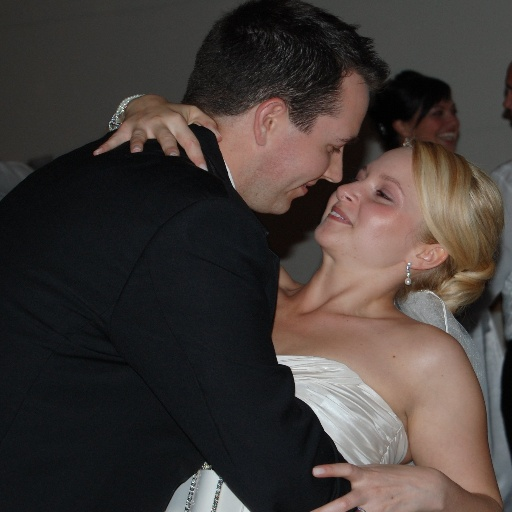hand: (94, 94, 231, 168), (307, 460, 450, 511)
